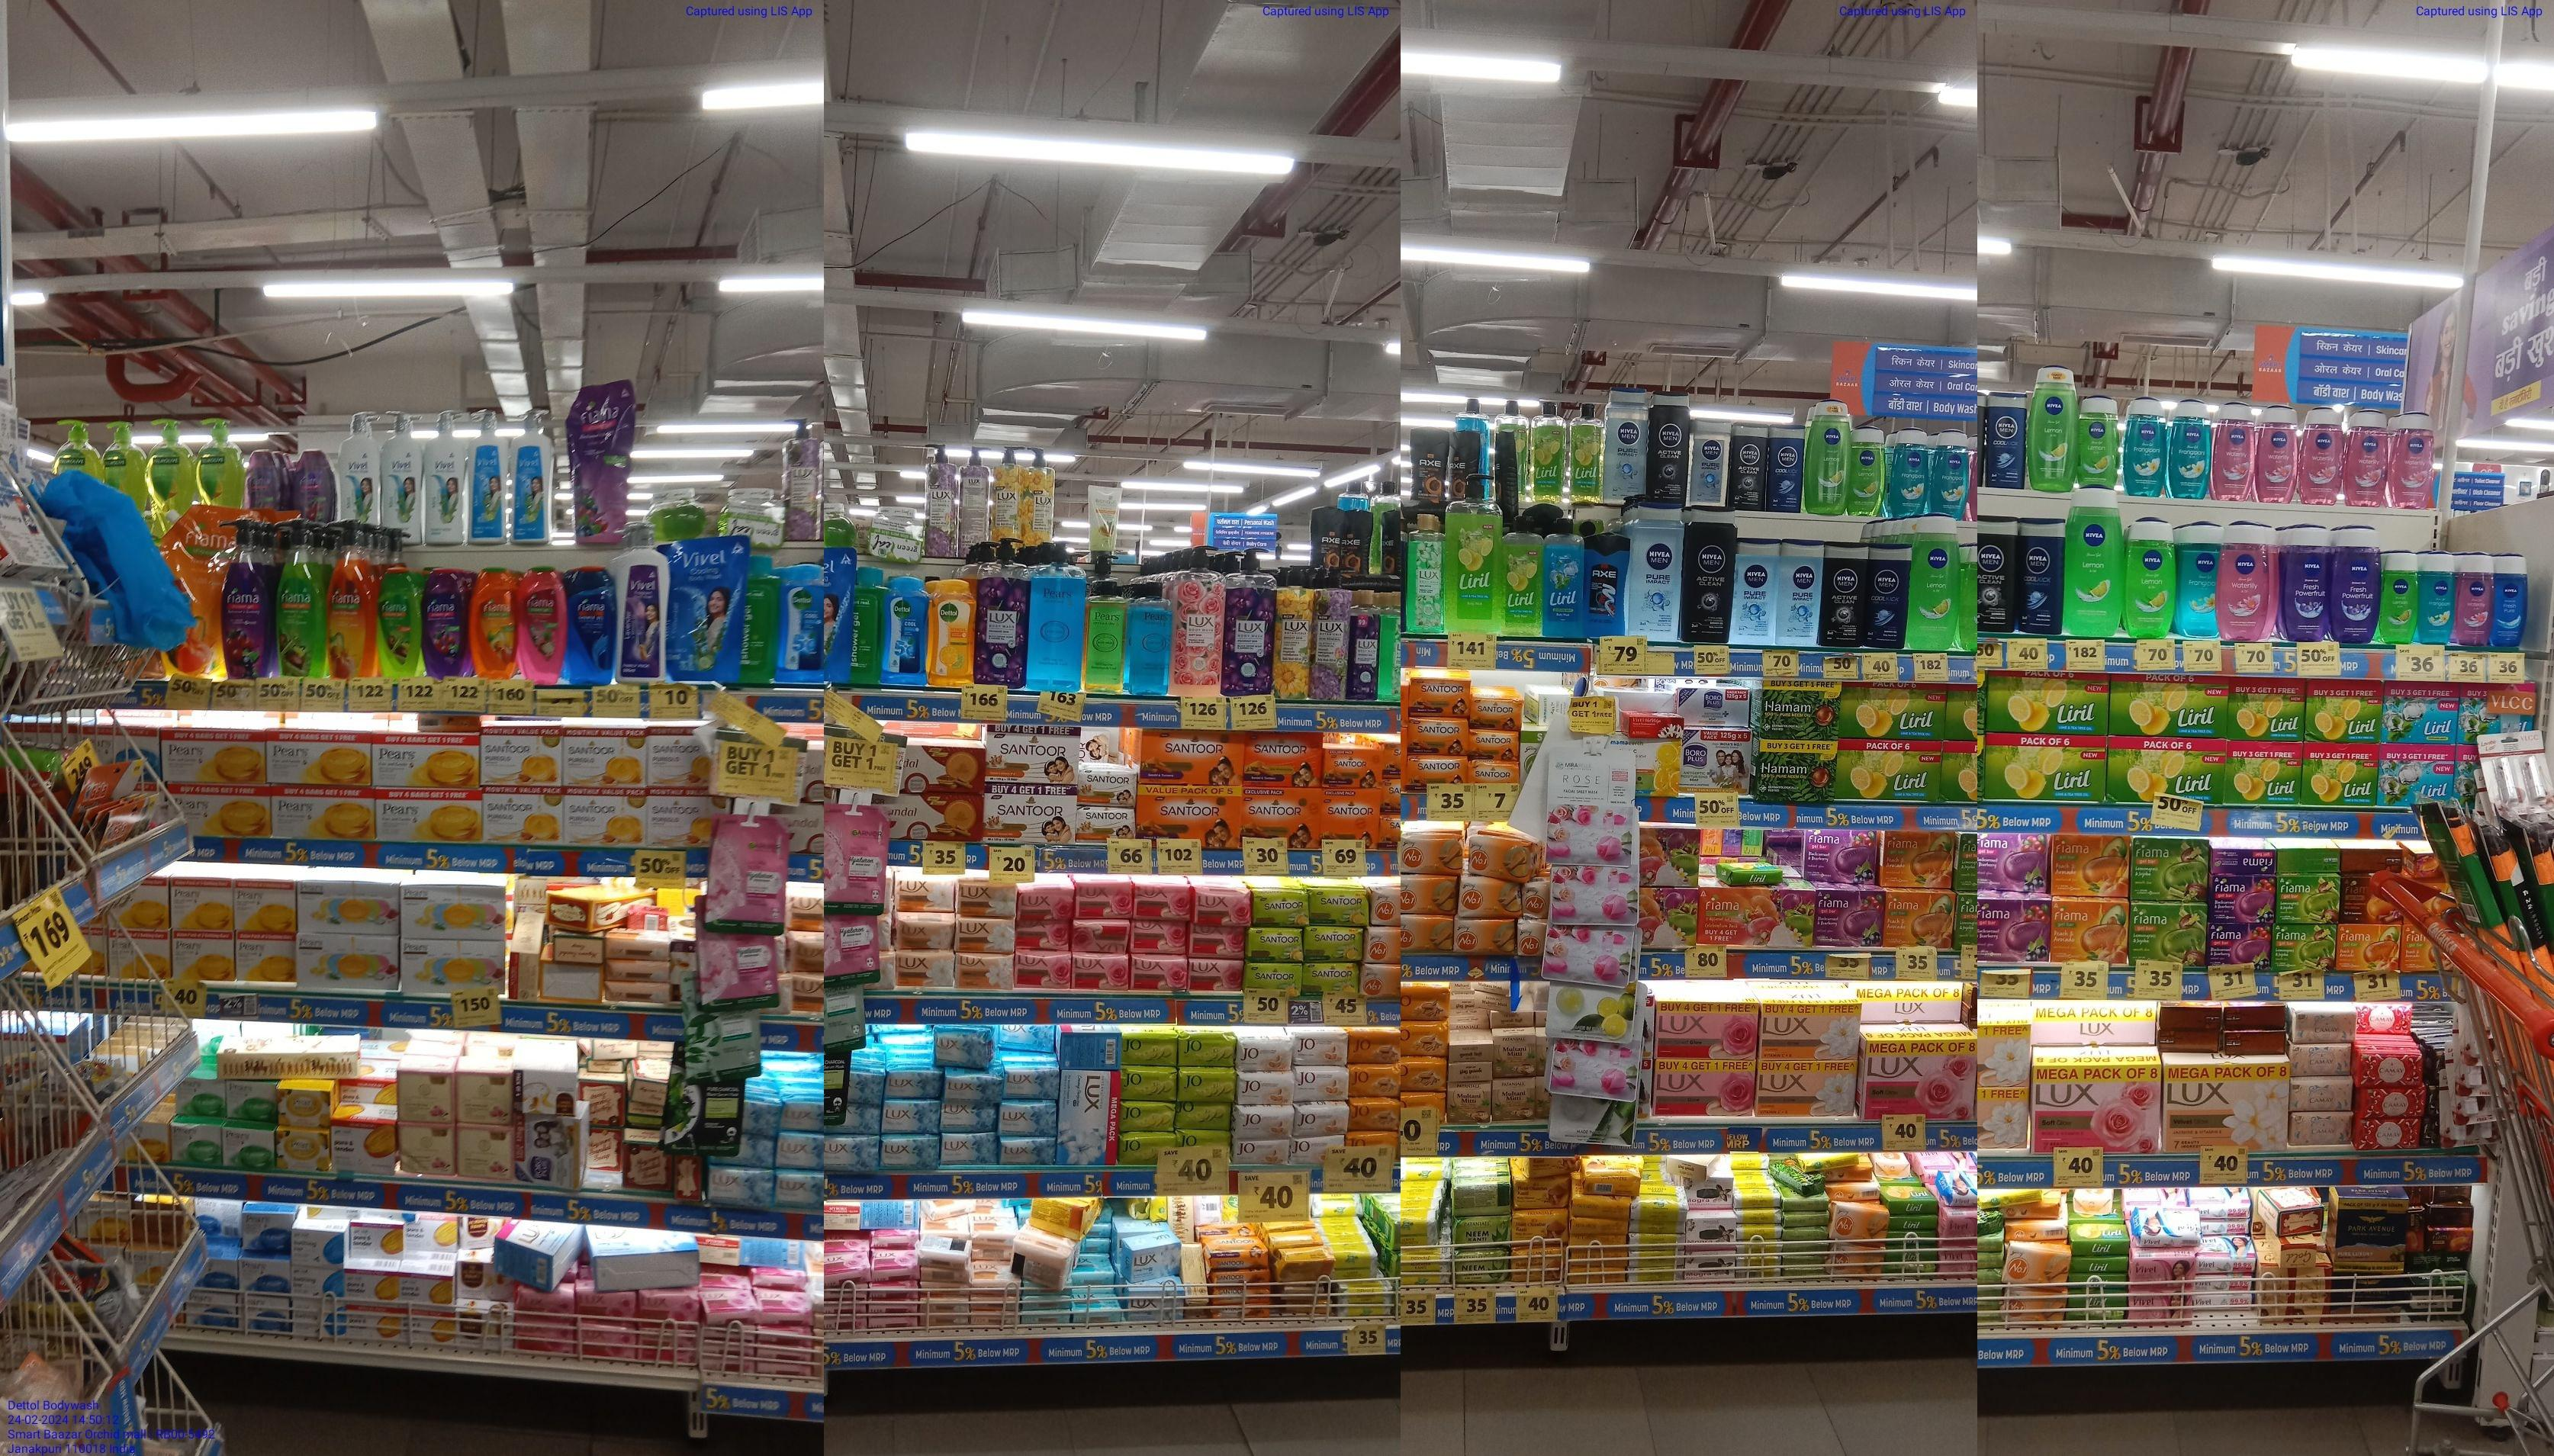Dettol_Bodywash_Cool: (781, 563, 823, 684), (884, 572, 928, 688)
Dettol_Bodywash_Refresh: (930, 577, 975, 688)
Fiama_Shower_Gel_Lemongrass_and_Jojoba_250ML: (377, 568, 423, 675)
Fiama_Shower_Gel_Patchouli_and_Macadamia_250ML: (521, 570, 563, 688)
Fiama_Shower_Gel_Peach_and_Avocado_250ML: (470, 565, 517, 677)
Liril_Cooling_Mint_Body_Wash_250ML: (1544, 516, 1584, 635)
Liril_Lime_and_Tea_Tree_Oil_Body_Wash_250ML: (1503, 514, 1540, 637), (1531, 400, 1566, 496), (1570, 402, 1602, 493)
Lux_Black_Orchid_Scent_and_Juniper_Oil_Body_Wash_245ML: (1347, 588, 1379, 698)
Lux_Body_Wash_Skin_Detox_Freesia_Scent_and_Alove_Vera_245ML: (1407, 512, 1445, 633)
Nivea_Shower_Gel_Frangipani_and_Oil_250ML: (2177, 525, 2214, 637), (2124, 400, 2166, 496), (2168, 400, 2207, 498), (1887, 430, 1930, 517), (2419, 553, 2454, 644), (1933, 430, 1966, 516)
Nivea_Shower_Gel_Fresh_Powerfruit_250ML: (2331, 528, 2380, 644), (2287, 530, 2329, 644)
Nivea_Shower_Gel_Lemon_and_Oil_250ML: (2066, 500, 2122, 635), (2028, 363, 2079, 491), (1907, 526, 1958, 649), (2124, 517, 2175, 637), (1805, 395, 1851, 512), (2082, 396, 2117, 489), (2382, 549, 2415, 646), (1854, 426, 1884, 514)
Nivea_Shower_Gel_Waterlily_and_Oil_250ML: (2215, 525, 2268, 642), (2389, 410, 2435, 507), (2301, 409, 2344, 503), (2347, 405, 2386, 507), (2215, 403, 2256, 498), (2259, 407, 2298, 502), (2456, 554, 2493, 646)
Pears_Pure_Glycerin_and_Lemon_Flower_Extracts_Body_Wash_250ML: (1084, 581, 1124, 693)
Pears_Pure_Glycerin_and_Mint_Extracts_Body_Wash_250ML: (1128, 581, 1172, 695)
